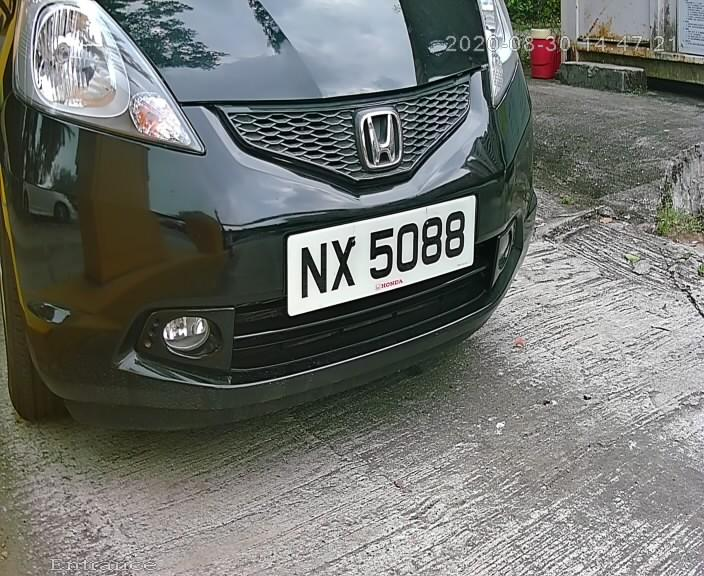License Plate: (274, 191, 500, 322)
